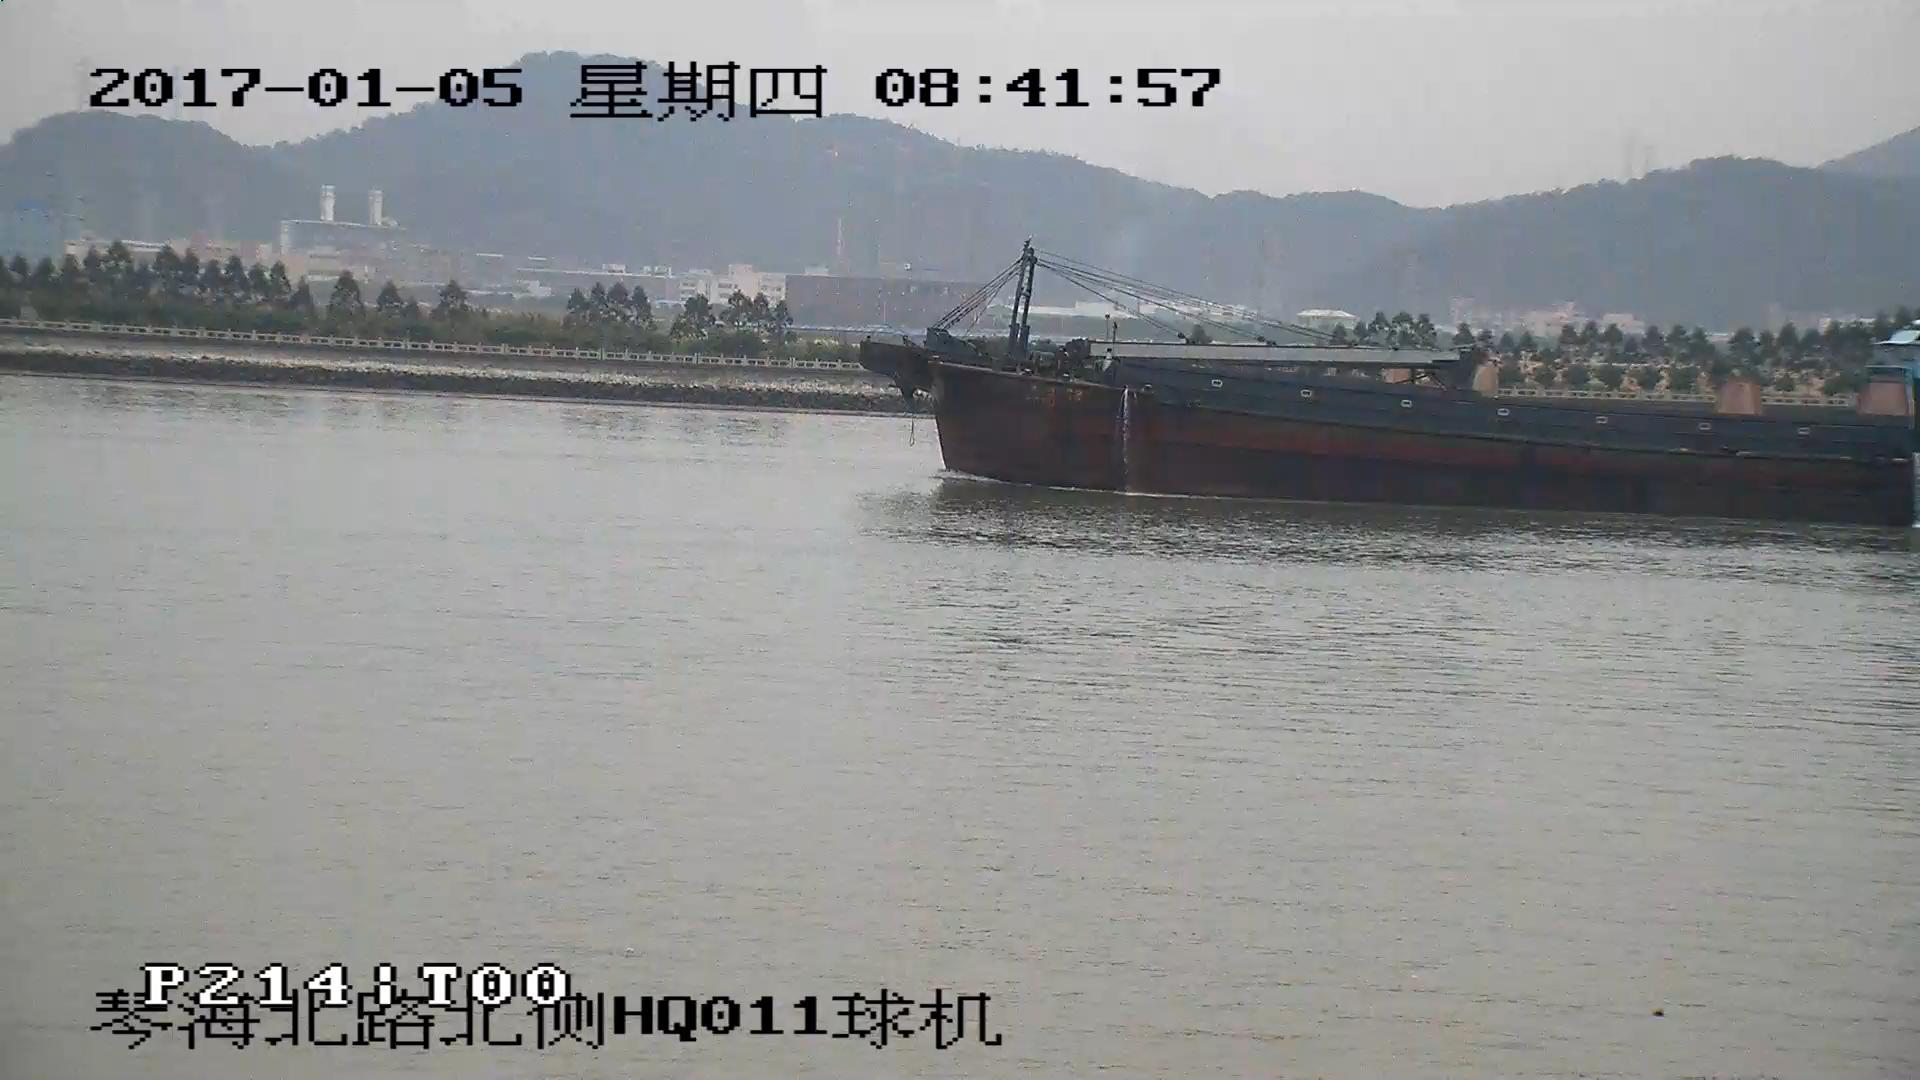Ship: (861, 245, 1920, 524)
